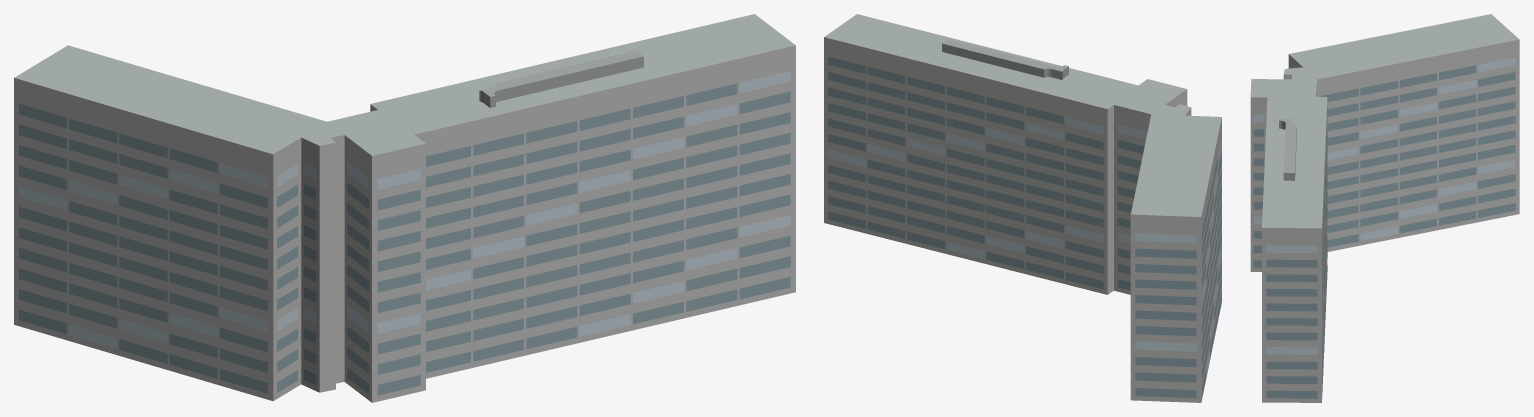
The model's file is apt-a13470504.glb.
The picture shows the model from 3 angles, left to right: view 1: azimuth 30°, elevation 25°; view 2: azimuth 150°, elevation 25°; view 3: azimuth 270°, elevation 25°; orthographic projection. The views are drawn at different scales.
Visible parts, largest first — view 1: apt-a13470504; view 2: apt-a13470504; view 3: apt-a13470504.
Part boxes in pixels (x1,y1,x2,y2): apt-a13470504: (14, 14, 795, 402); apt-a13470504: (824, 14, 1221, 402); apt-a13470504: (1250, 14, 1519, 402).
Bounding box in the file's own units: 96.37 × 38.25 × 51.12.
